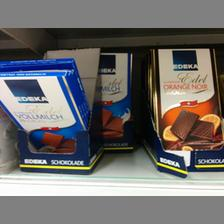Schokolade: (150, 45, 223, 151), (0, 69, 88, 150)
